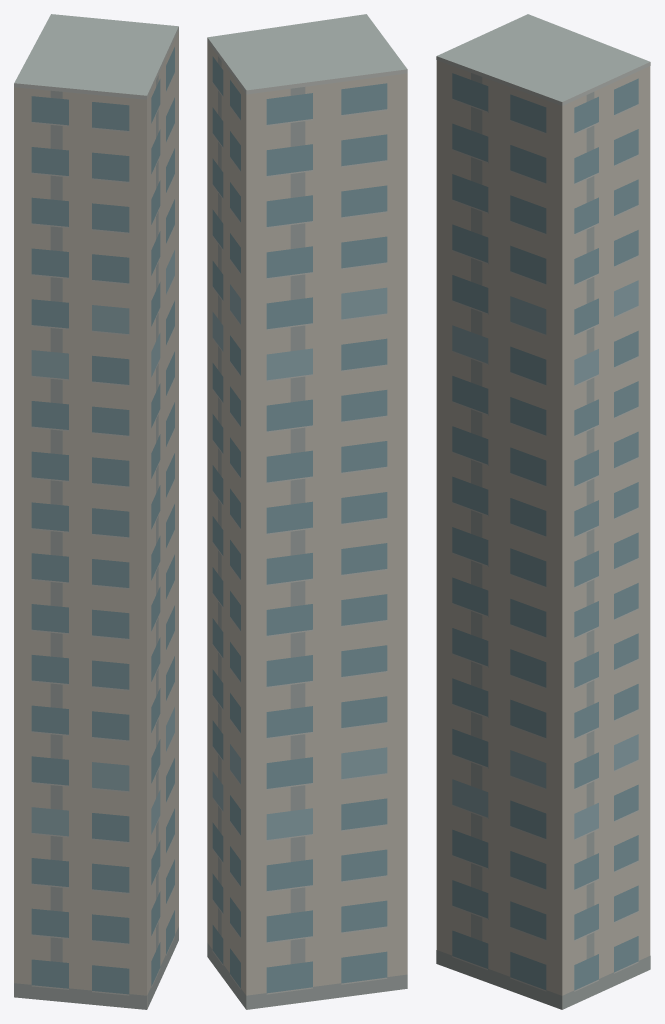
Rendered from survey-upis-32509185.glb.
3 renders of one model, left to right at view 1: azimuth 30°, elevation 25°; view 2: azimuth 150°, elevation 25°; view 3: azimuth 270°, elevation 25°, orthographic.
Parts seen in each view (by area): view 1: survey-upis-32509185.tmp; view 2: survey-upis-32509185.tmp; view 3: survey-upis-32509185.tmp.
Boxes of the visible parts, box(x1,y1,x2,y2) form: survey-upis-32509185.tmp: box(14, 14, 178, 1009); survey-upis-32509185.tmp: box(207, 14, 407, 1009); survey-upis-32509185.tmp: box(436, 14, 650, 1009).
Size of the model in its own units: 11.44 by 54.9 by 11.74.
